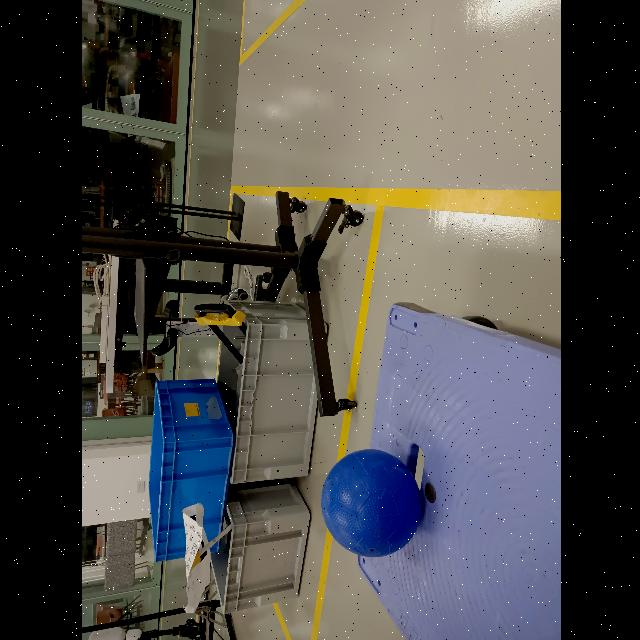B: (319, 449, 421, 557)
